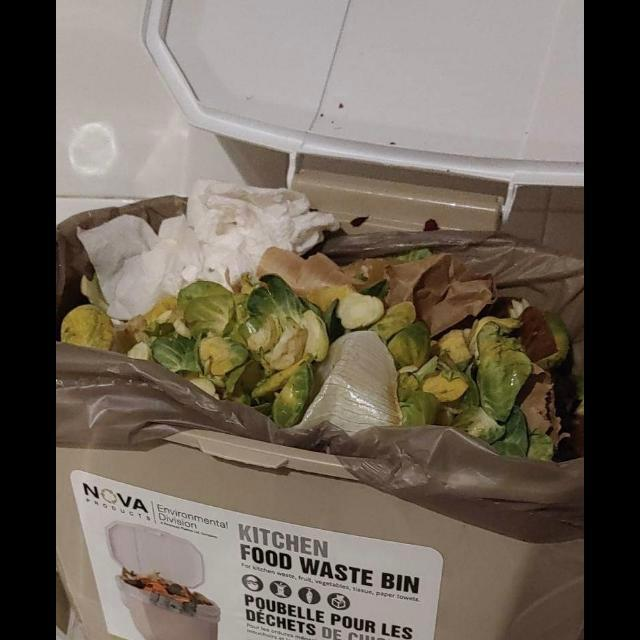paper: (79, 179, 340, 321)
